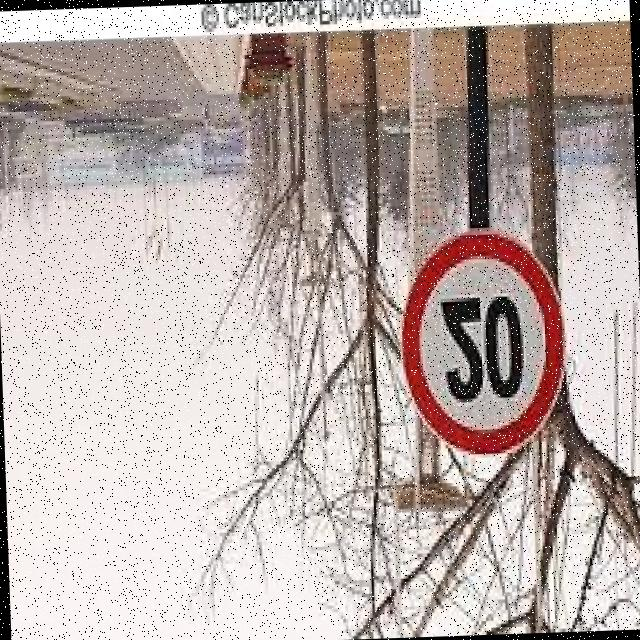speed_limit_20: (392, 226, 572, 464)
